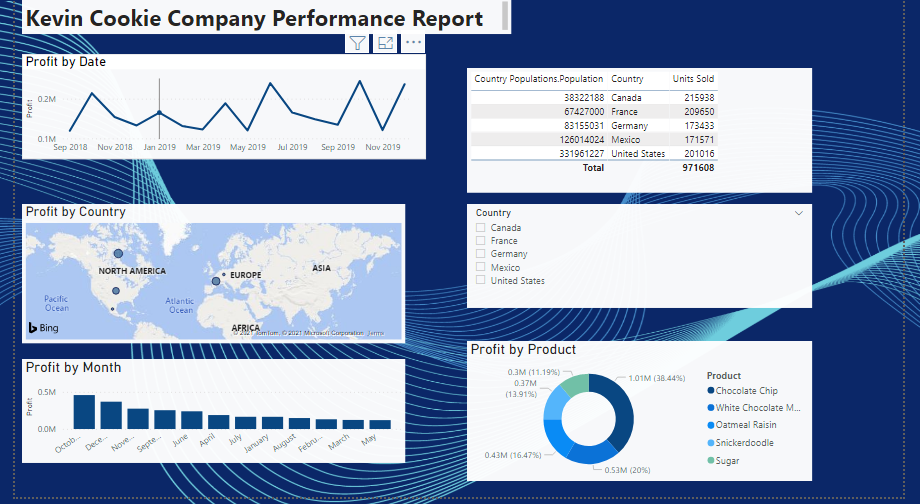

What the dashboard file says about the page in this screenshot:
{"tool":"powerbi","page":{"name":"Page 1","canvas":[1280,720],"ordinal":0},"visuals":[{"type":"textbox","box":[10.1,0,705.6,51.9],"z":0},{"type":"lineChart","fields":{"Category":["Cookie Sales.Date"],"Y":["Sum(Cookie Sales.Profit)"]},"box":[10.1,80.8,582.9,151.5],"z":1000},{"type":"map","fields":{"Category":["Cookie Sales.Country"],"Size":["Sum(Cookie Sales.Profit)"]},"box":[10.1,297.2,552.6,200.6],"z":2000},{"type":"tableEx","fields":{"Values":["Cookie Sales.Country Populations.Population","Cookie Sales.Country","Sum(Cookie Sales.Units Sold)"]},"box":[652.2,101,497.8,180.4],"z":3000},{"type":"columnChart","fields":{"Y":["Sum(Cookie Sales.Profit)"],"Category":["Cookie Sales.Month"]},"box":[10.1,520.9,552.6,150.1],"z":4000},{"type":"slicer","fields":{"Values":["Cookie Sales.Country"]},"box":[652.2,297.2,497.8,150.1],"z":5000},{"type":"donutChart","fields":{"Y":["Sum(Cookie Sales.Profit)"],"Category":["Cookie Sales.Product"]},"box":[652.2,494.9,497.8,202],"z":6000}]}

Visuals, with their boxes in screenshot pixels (x1, y1, x2, y2), scaled from the page's 1280x720 canvas onto the 920x504 screenshot:
textbox: x1=7 y1=0 x2=514 y2=36
lineChart - Cookie Sales.Date x Sum(Cookie Sales.Profit): x1=7 y1=57 x2=426 y2=163
map - Cookie Sales.Country x Sum(Cookie Sales.Profit): x1=7 y1=208 x2=404 y2=348
tableEx - Cookie Sales.Country Populations.Population x Cookie Sales.Country: x1=469 y1=71 x2=827 y2=197
columnChart - Sum(Cookie Sales.Profit) x Cookie Sales.Month: x1=7 y1=365 x2=404 y2=470
slicer - Cookie Sales.Country: x1=469 y1=208 x2=827 y2=313
donutChart - Sum(Cookie Sales.Profit) x Cookie Sales.Product: x1=469 y1=346 x2=827 y2=488
